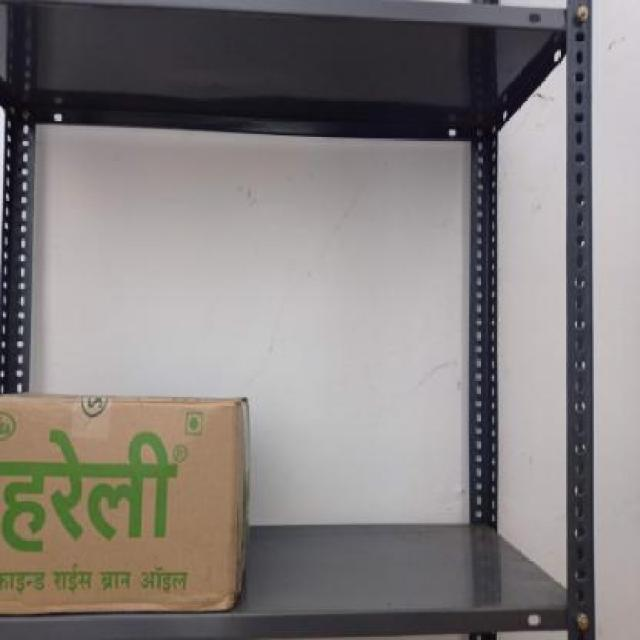box: (0, 402, 237, 613)
